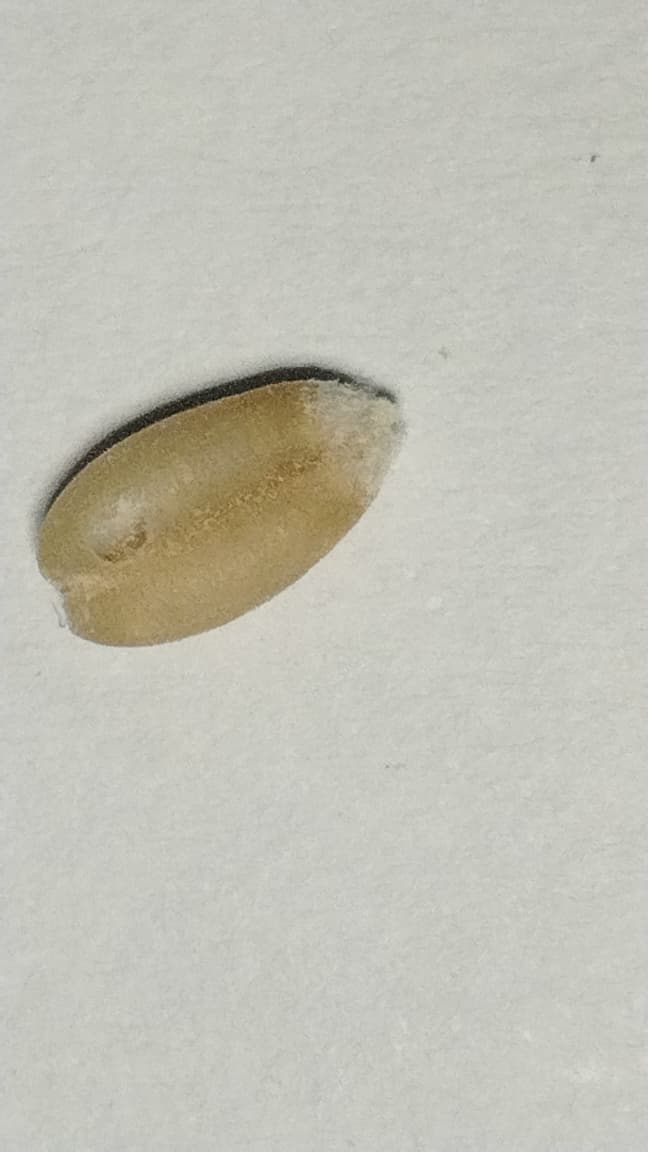damage: (41, 371, 401, 645)
insectdamage: (84, 484, 161, 571)
